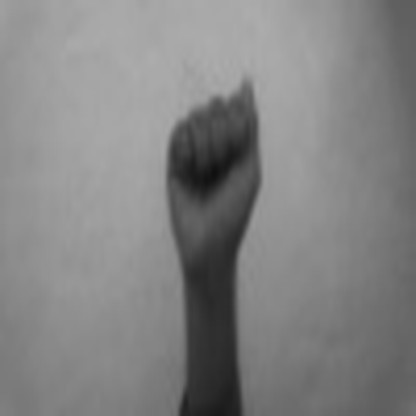a: (161, 72, 270, 255)
